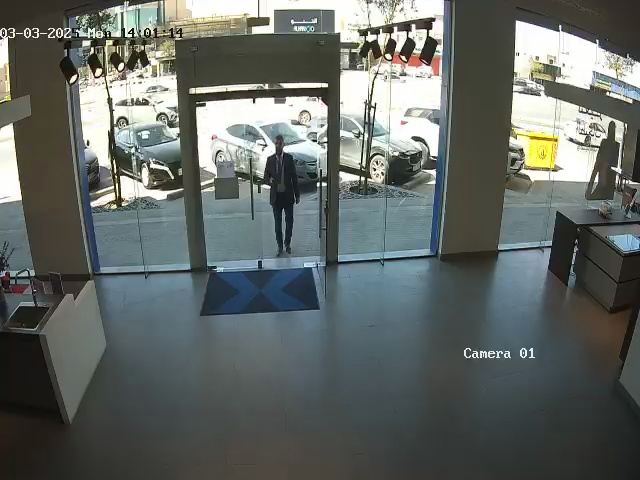employee: (263, 134, 301, 257)
